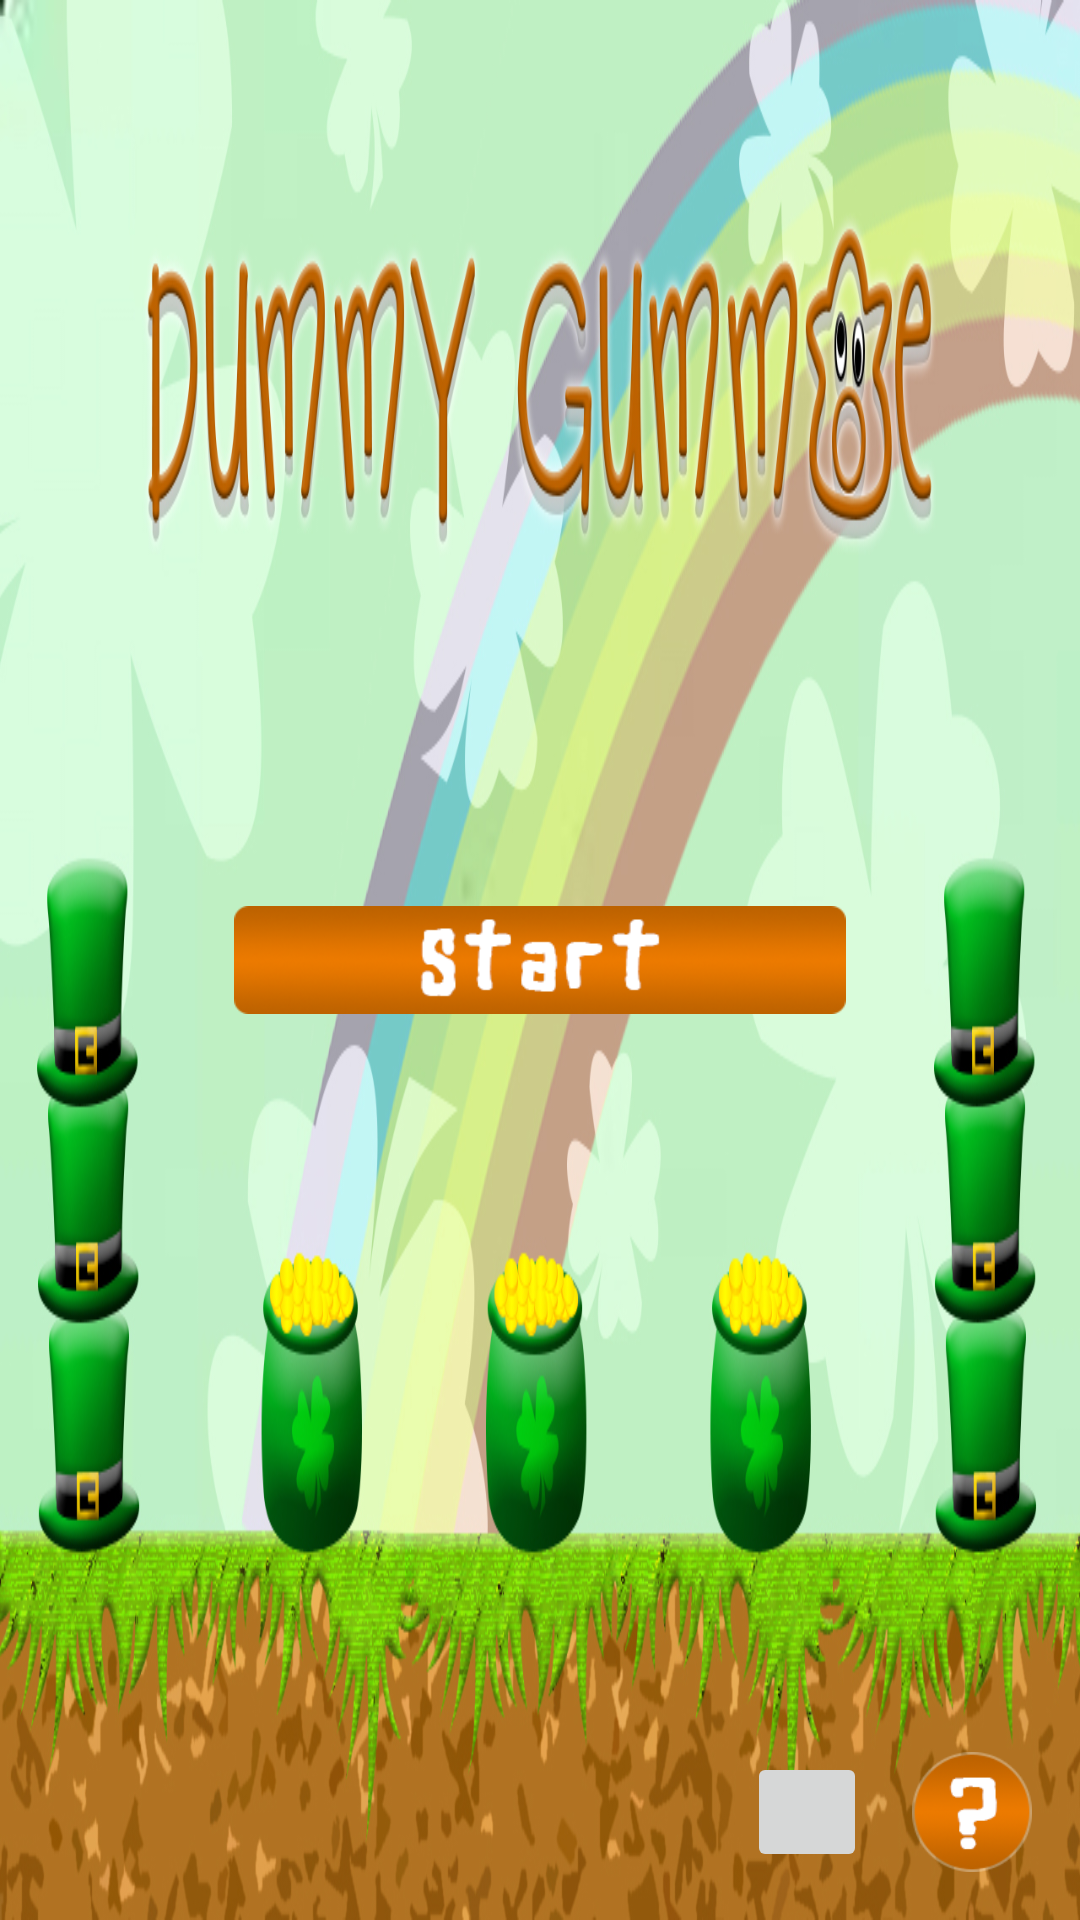

Where icons sit on this 1080 × 1920 app screen, as rect(x1, y1, x2, y2):
instruction: rect(912, 1752, 1032, 1872)
